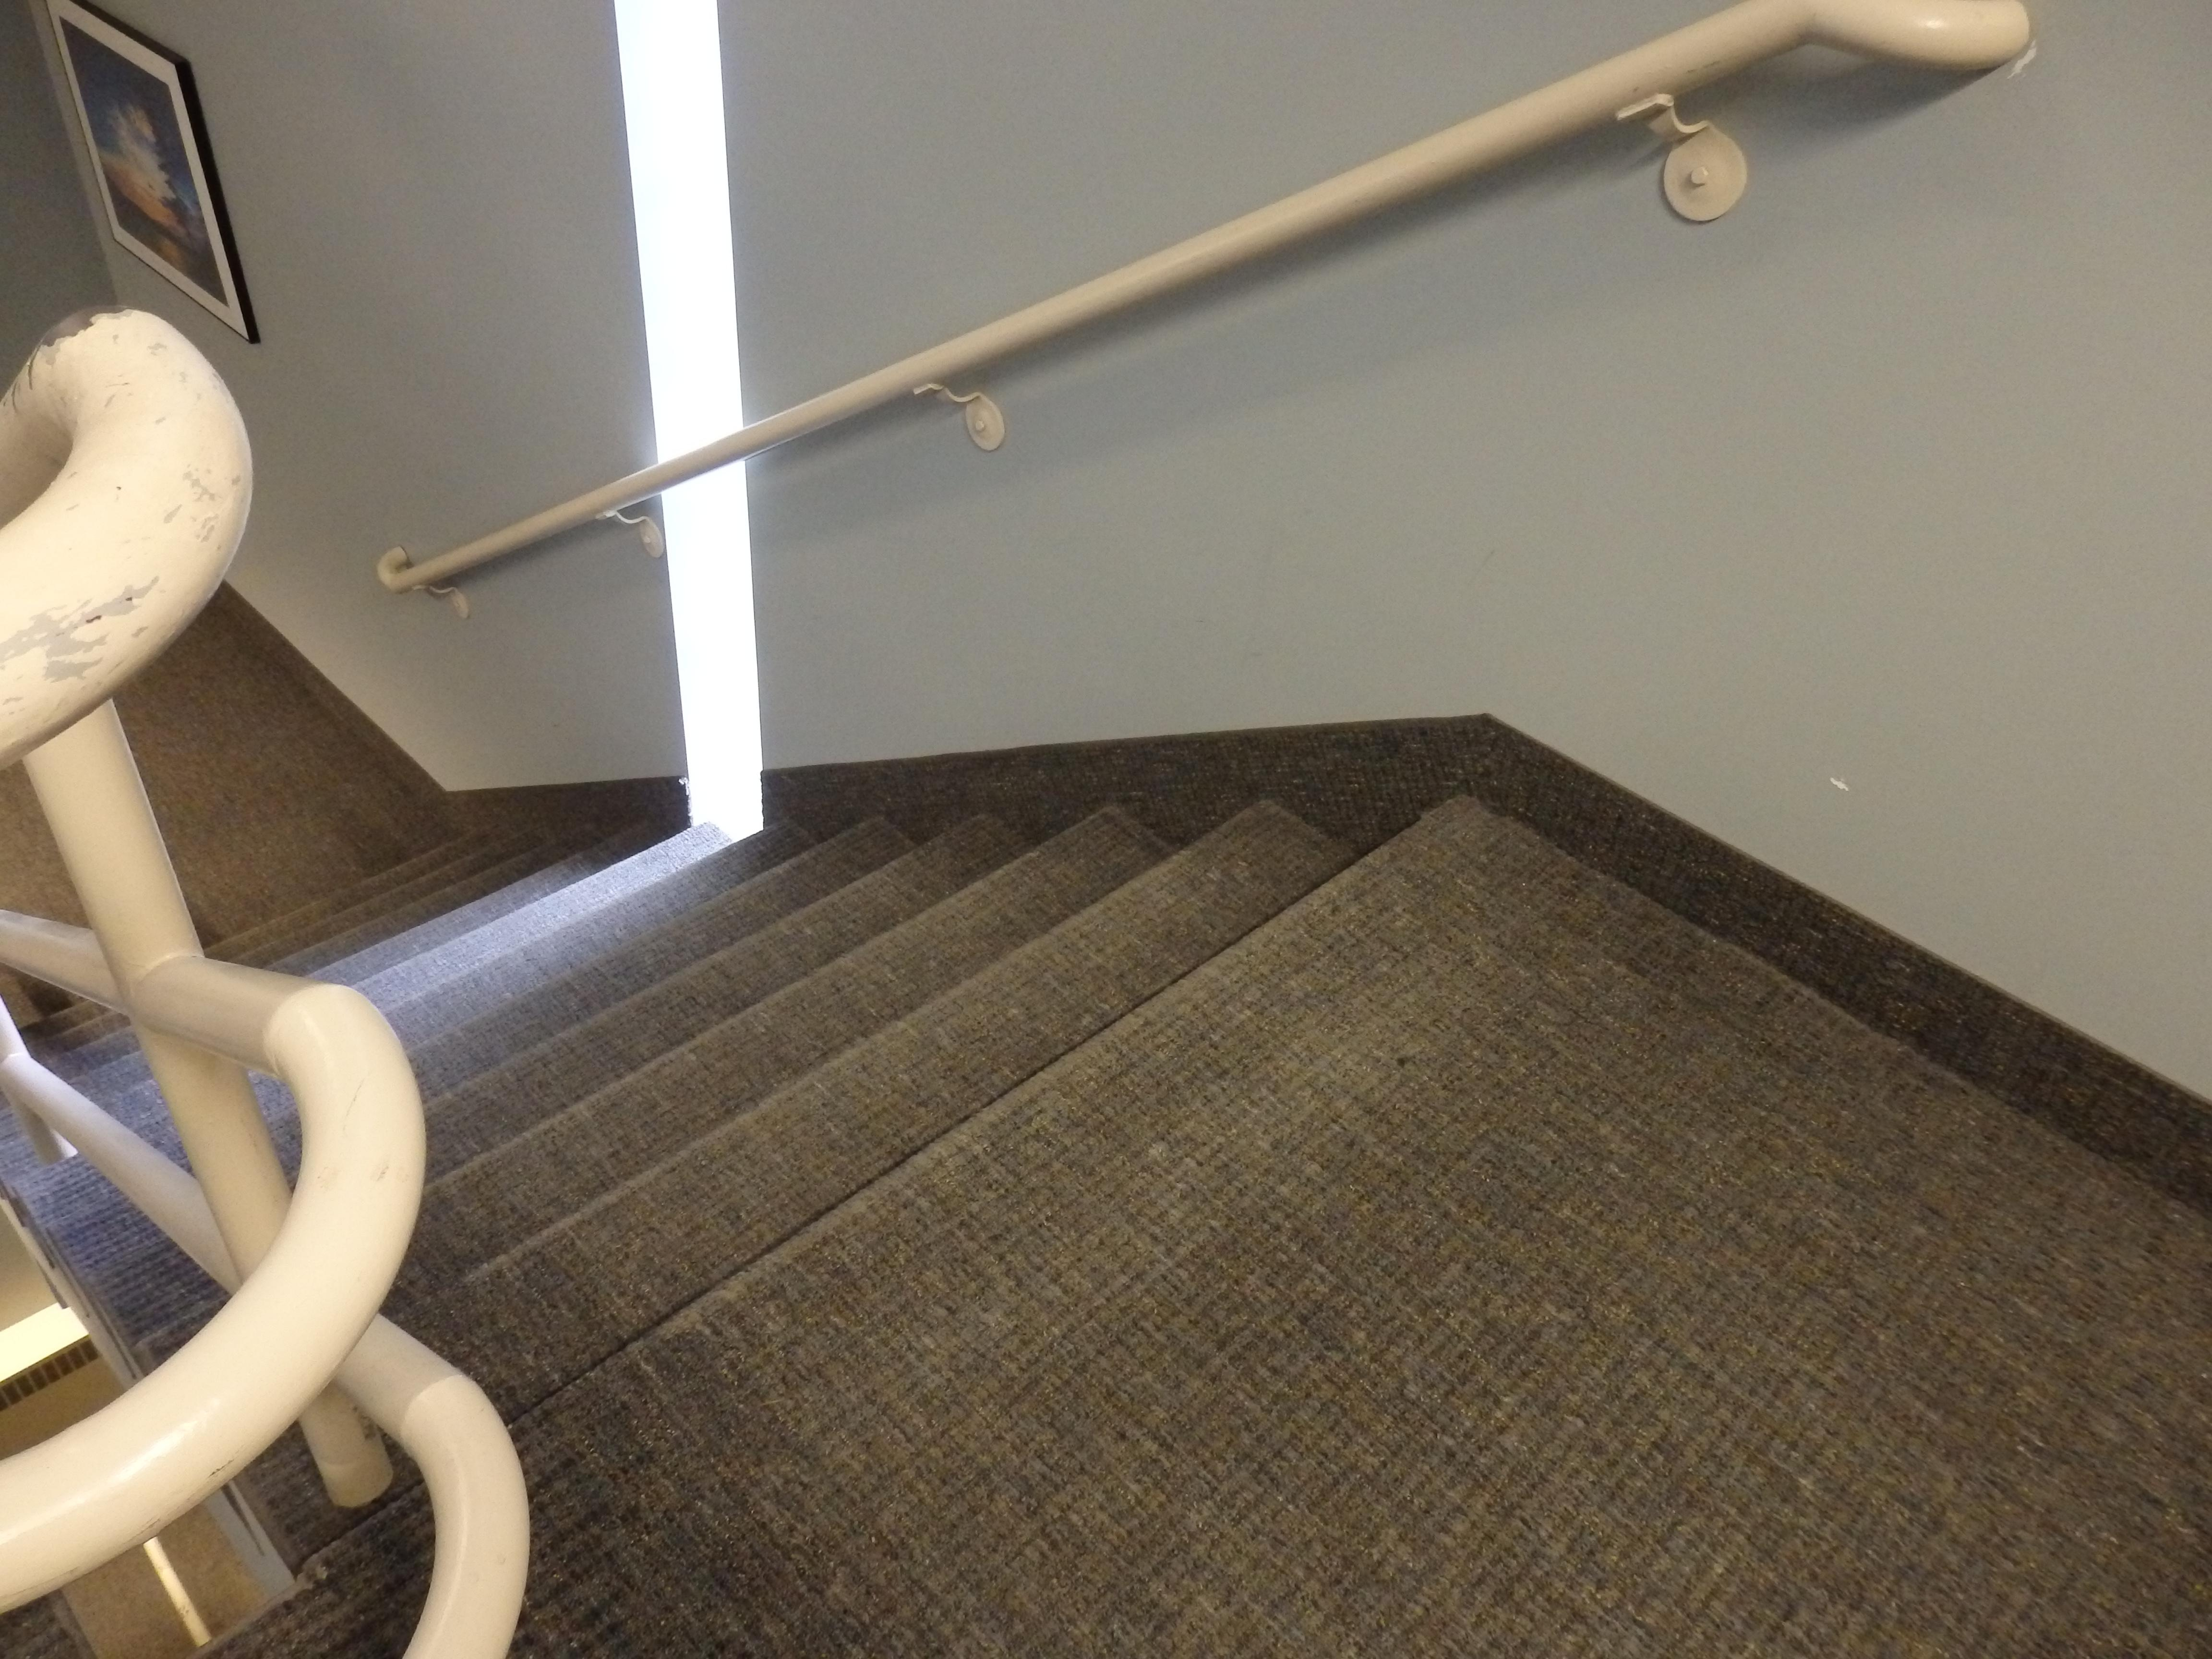stairs_down: (0, 592, 1529, 1561)
